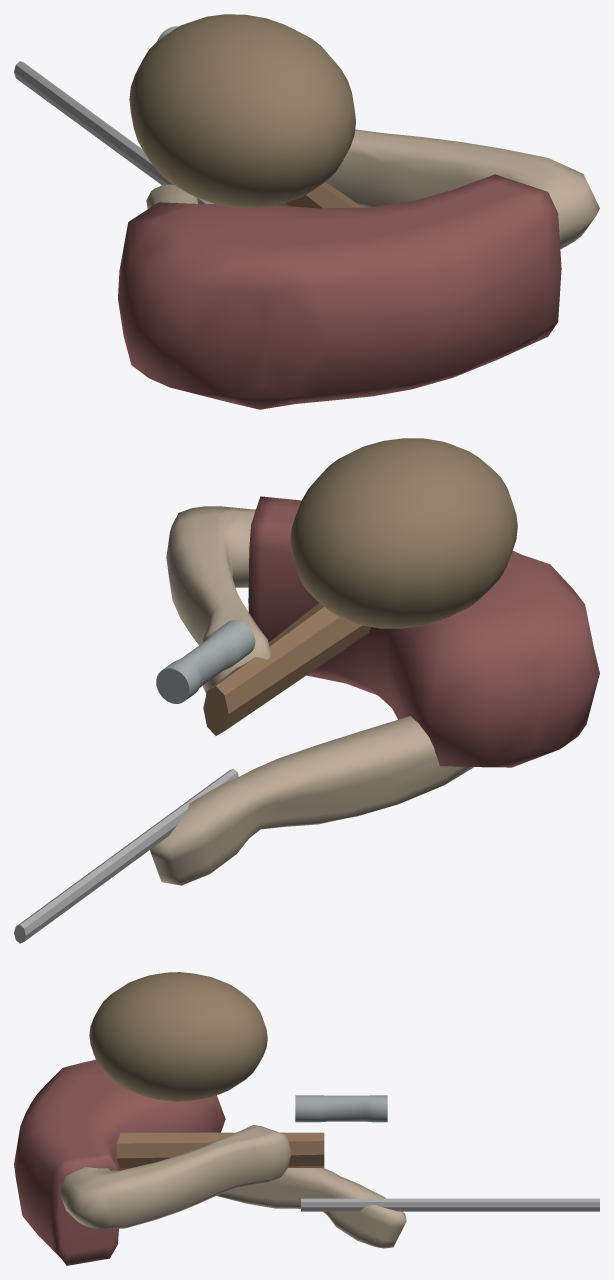
Rendered from Red_Hunter_noanim_lowPoly.fbx.
The picture shows the model from 3 angles, top to bottom: view 1: azimuth 30°, elevation 25°; view 2: azimuth 150°, elevation 25°; view 3: azimuth 270°, elevation 25°; orthographic projection. The views are drawn at different scales.
Visible parts, largest first — view 1: polySurface5; view 2: polySurface5; view 3: polySurface5.
Boxes of the visible parts, <box> form: polySurface5: <box>14,14,599,409</box>; polySurface5: <box>14,438,599,943</box>; polySurface5: <box>14,972,599,1265</box>.
Bounding box in the file's own units: 9.99 × 7.53 × 16.7.
